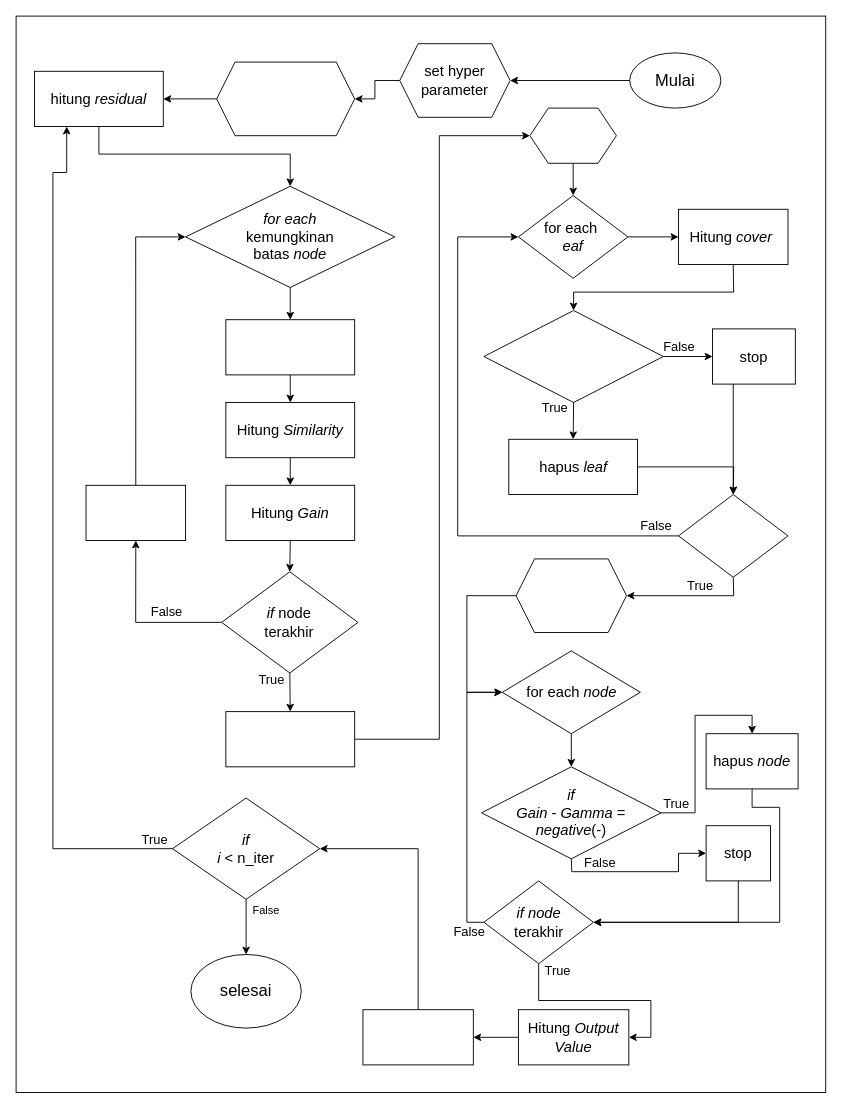
This 842x1109 diagram has some shape labels left out. Here are the shapes that lost their labels. From the top down, the centre of each, then its label:
(x=285, y=98): set Initial Probability = 0.5
(x=572, y=135): cover = 1
(x=290, y=347): Tentukan Batas untuk node
(x=573, y=356): if nilai cover leaf < 1
(x=135, y=512): node selanjutnya
(x=733, y=535): if leaf terakhir
(x=571, y=595): gamma = 1
(x=290, y=739): Gain terbesar dipilih jadi node
(x=417, y=1037): Hitung new probability
